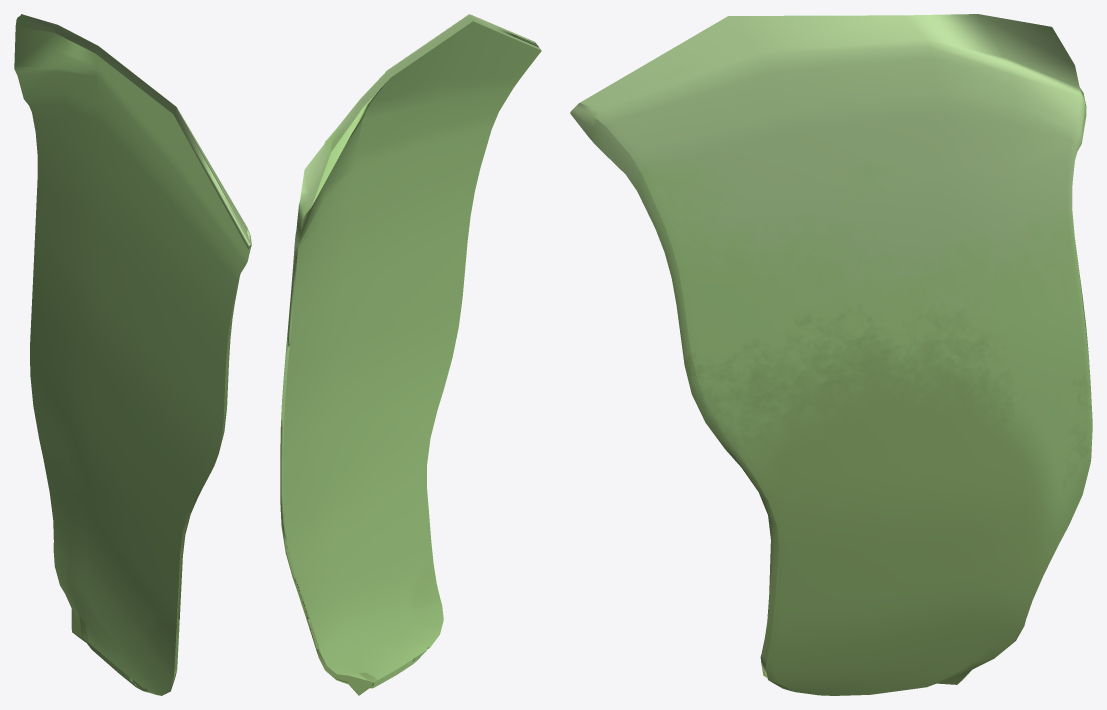
File: flatlettuce.fbx
3 views of the same model, side by side, from view 1: azimuth 30°, elevation 25°; view 2: azimuth 150°, elevation 25°; view 3: azimuth 270°, elevation 25° (orthographic). The views are drawn at different scales.
Parts seen in each view (by area): view 1: pCube553; view 2: pCube553; view 3: pCube553.
Part boxes in pixels (x1=…): pCube553: x1=14, y1=14, x2=251, y2=695; pCube553: x1=280, y1=14, x2=541, y2=695; pCube553: x1=570, y1=14, x2=1092, y2=695.
Bounding box in the file's own units: 0.0554 × 0.7108 × 0.4968.
